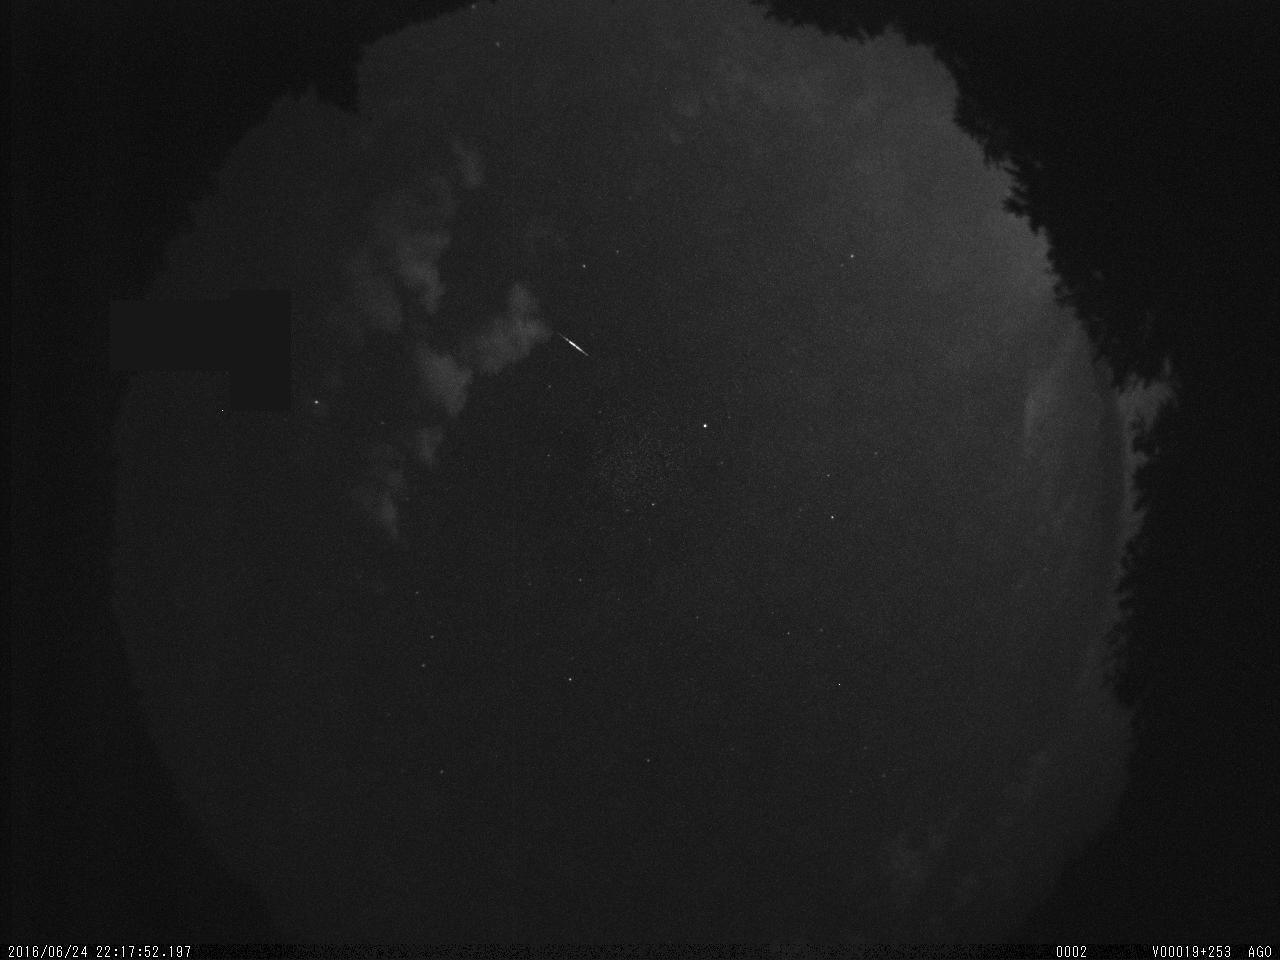meteor: (540, 317, 605, 374)
